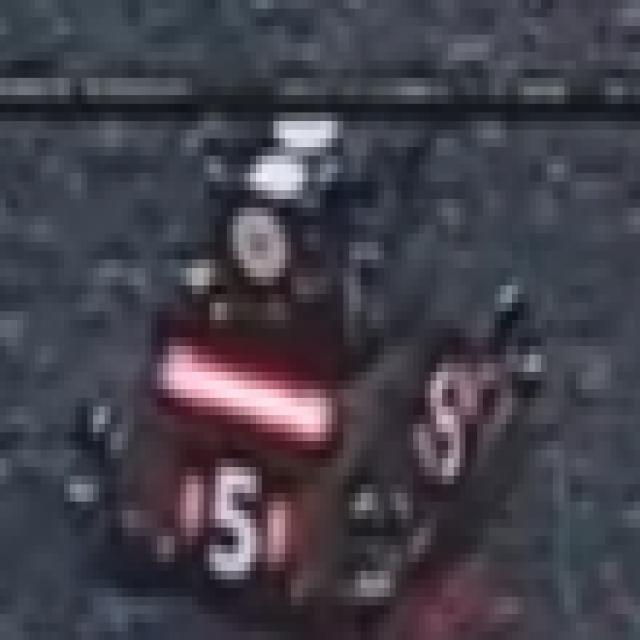R5: (180, 450, 291, 579), (413, 354, 483, 476)
